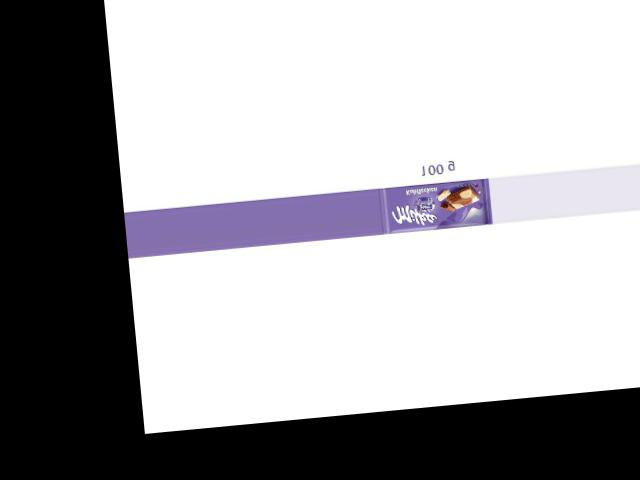chocolate: (378, 171, 494, 235)
